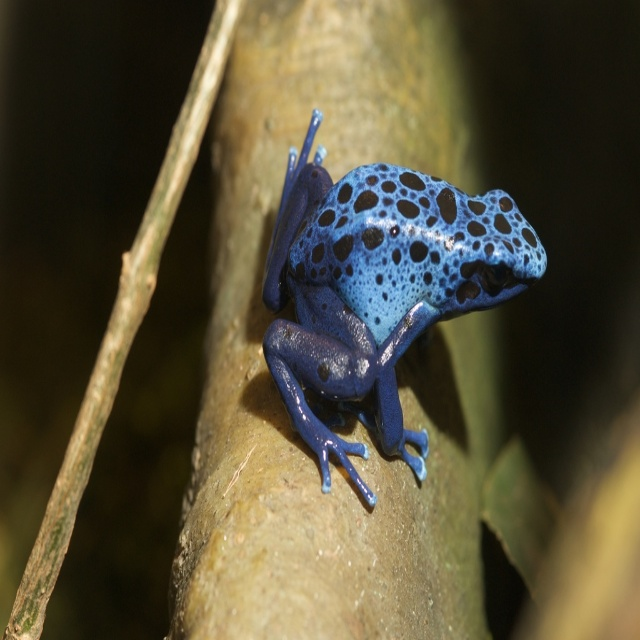Frog: (259, 107, 548, 510)
